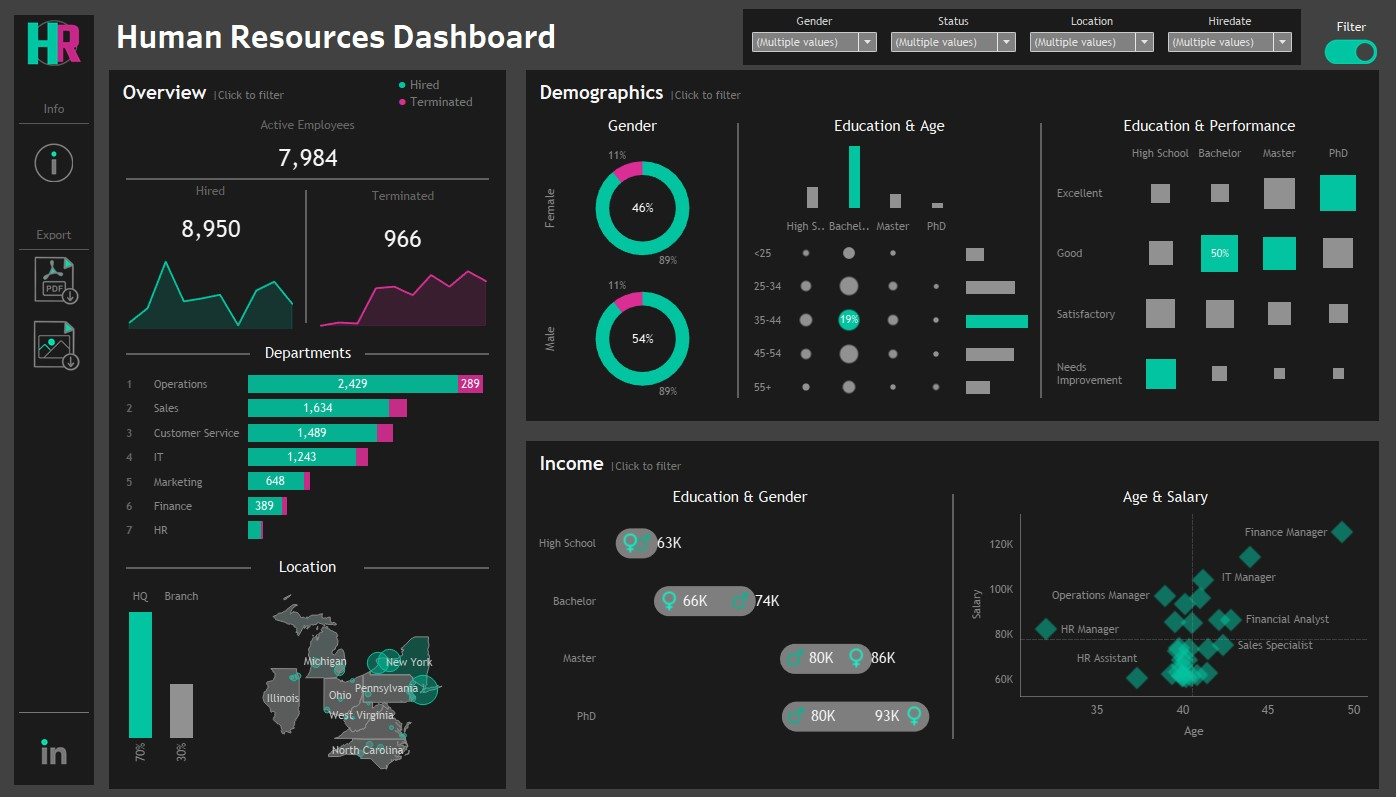

The page's visual inventory and layout, read from the dashboard file:
{"tool":"tableau","page":{"name":"Dashboard Summary","canvas":[1400,800],"ordinal":0},"visuals":[{"type":"blank","box":[96,0,1302,266]},{"type":"text","box":[110,0,622,70]},{"type":"blank","box":[732,0,648,70]},{"type":"filter","title":"gender vs education level","param":"[federated.1v3r0kx0rxv7lr11seoyn0p5qqrr].[none:Gender:nk]","box":[746,11,139,52]},{"type":"filter","title":"gender vs education level","param":"[federated.1v3r0kx0rxv7lr11seoyn0p5qqrr].[none:Calculation_1762314875518541824:n","box":[885,11,139,52]},{"type":"filter","title":"gender vs education level","param":"[federated.1v3r0kx0rxv7lr11seoyn0p5qqrr].[none:Calculation_1646628659733303301:n","box":[1024,11,138,52]},{"type":"filter","title":"gender vs education level","param":"[federated.1v3r0kx0rxv7lr11seoyn0p5qqrr].[yr:Hiredate:ok]","box":[1162,11,138,52]},{"type":"text","box":[1317,12,71,29]},{"type":"image","param":"Image/Logo.png","box":[15,15,80,55]},{"type":"dashboard-object","box":[1325,28,53,47]},{"type":"blank","box":[15,70,80,30]},{"type":"text","box":[396,71,87,43]},{"type":"text","box":[117,77,383,31]},{"type":"text","box":[534,77,839,31]},{"type":"text","box":[15,100,80,18]},{"type":"text","box":[117,108,383,28]},{"type":"text","box":[534,113,199,26]},{"type":"blank","box":[738,113,2,295]},{"type":"text","box":[745,113,291,26]},{"type":"blank","box":[1041,113,2,295]},{"type":"text","box":[1048,113,325,26]},{"type":"blank","box":[15,118,80,11]},{"type":"worksheet","title":"total active","mark":"Text","box":[117,136,383,42]},{"type":"dashboard-object","box":[25,139,60,47]},{"type":"worksheet","title":"gender","mark":"Pie","rows":["Gender"],"cols":["Calculation_1646628659743494151","Calculation_1646628659743494151"],"box":[534,139,199,269]},{"type":"worksheet","title":"edu levels","mark":"Bar","rows":["Calculation_1646628659718410240"],"cols":["Education Level"],"box":[745,139,291,73]},{"type":"worksheet","title":"education vs performance","mark":"Square","rows":["Performance Rating"],"cols":["Education Level"],"box":[1048,139,325,269]},{"type":"blank","box":[117,178,383,2]},{"type":"text","box":[117,180,189,22]},{"type":"blank","box":[306,180,2,153]},{"type":"text","box":[308,180,191.9,32]},{"type":"blank","box":[15,196,80,30]},{"type":"worksheet","title":"total hired","mark":"Text","box":[117,202,189,51]},{"type":"worksheet","title":"total terminated","mark":"Text","box":[308,212,191.9,51]},{"type":"worksheet","title":"age vs education","mark":"Circle","rows":["Calculation_1646628659748687881"],"cols":["Education Level"],"box":[745,212,218,196]},{"type":"worksheet","title":"age groups","mark":"Bar","rows":["Calculation_1646628659748687881"],"cols":["Calculation_1646628659718410240"],"box":[963,212,73,196]},{"type":"text","box":[15,226,80,18]},{"type":"blank","box":[15,244,80,11]},{"type":"worksheet","title":"hired by year","mark":"Line","rows":["Calculation_1646628659718410240","Calculation_1646628659718410240"],"cols":["Hiredate"],"box":[117,253,189,80]},{"type":"dashboard-object","box":[15,255,80,50]},{"type":"worksheet","title":"terminated by year","mark":"Line","rows":["Calculation_1646628659718594561","Calculation_1646628659718594561"],"cols":["Termdate"],"box":[308,263,191.9,70]},{"type":"text","box":[96,266,1302,234]},{"type":"blank","box":[15,305,80,10]},{"type":"dashboard-object","box":[15,315,80,60]},{"type":"blank","box":[127,338,123.7,30]},{"type":"text","box":[250.7,338,115.7,30]},{"type":"blank","box":[366.3,338,123.7,30]},{"type":"worksheet","title":"departments","mark":"Bar","rows":["Calculation_1646628659730563076","Department"],"cols":["Calculation_1646628659718410240"],"box":[117,368,383,179]},{"type":"blank","box":[15,375,80,332]},{"type":"text","box":[534,448,839,31]},{"type":"text","box":[534,484,414,26]},{"type":"blank","box":[953,484,2,265]},{"type":"text","box":[960,484,413,26]},{"type":"blank","box":[96,500,1302,300]},{"type":"worksheet","title":"gender vs education level","mark":"Square","rows":["Education Level"],"cols":["Salary","Salary"],"box":[534,510,414,239]},{"type":"worksheet","title":"age vs salary","mark":"Shape","rows":["Salary"],"cols":["Calculation_1646628659746996232"],"box":[960,510,413,239]},{"type":"blank","box":[127,552,125,30]},{"type":"text","box":[252,552,113,30]},{"type":"blank","box":[365,552,125,30]},{"type":"worksheet","title":"location","mark":"Bar","rows":["Calculation_1646628659718410240"],"cols":["Calculation_1646628659733303301","Calculation1"],"box":[117,582,90,200]},{"type":"worksheet","title":"map states","mark":"Multipolygon","box":[207,582,293,200]},{"type":"blank","box":[15,707,80,11]},{"type":"image","param":"Image/contact-linkedin.png","box":[15,718,80,67]},{"type":"blank","box":[534,749,839,33]}]}

Visuals, with their boxes in screenshot pixels (x1, y1, x2, y2), scaled from the page's 1400x800 canvas onto the 1396x797 screenshot:
blank: (left=96, top=0, right=1394, bottom=265)
text: (left=110, top=0, right=730, bottom=70)
blank: (left=730, top=0, right=1376, bottom=70)
"gender vs education level" filter: (left=744, top=11, right=882, bottom=63)
"gender vs education level" filter: (left=882, top=11, right=1021, bottom=63)
"gender vs education level" filter: (left=1021, top=11, right=1159, bottom=63)
"gender vs education level" filter: (left=1159, top=11, right=1296, bottom=63)
text: (left=1313, top=12, right=1384, bottom=41)
image: (left=15, top=15, right=95, bottom=70)
dashboard-object: (left=1321, top=28, right=1374, bottom=75)
blank: (left=15, top=70, right=95, bottom=100)
text: (left=395, top=71, right=482, bottom=114)
text: (left=117, top=77, right=499, bottom=108)
text: (left=532, top=77, right=1369, bottom=108)
text: (left=15, top=100, right=95, bottom=118)
text: (left=117, top=108, right=499, bottom=135)
text: (left=532, top=113, right=731, bottom=138)
blank: (left=736, top=113, right=738, bottom=406)
text: (left=743, top=113, right=1033, bottom=138)
blank: (left=1038, top=113, right=1040, bottom=406)
text: (left=1045, top=113, right=1369, bottom=138)
blank: (left=15, top=118, right=95, bottom=129)
"total active" worksheet (Text marks): (left=117, top=135, right=499, bottom=177)
dashboard-object: (left=25, top=138, right=85, bottom=185)
"gender" worksheet (Pie marks): (left=532, top=138, right=731, bottom=406)
"edu levels" worksheet (Bar marks): (left=743, top=138, right=1033, bottom=211)
"education vs performance" worksheet (Square marks): (left=1045, top=138, right=1369, bottom=406)
blank: (left=117, top=177, right=499, bottom=179)
text: (left=117, top=179, right=305, bottom=201)
blank: (left=305, top=179, right=307, bottom=332)
text: (left=307, top=179, right=498, bottom=211)
blank: (left=15, top=195, right=95, bottom=225)
"total hired" worksheet (Text marks): (left=117, top=201, right=305, bottom=252)
"total terminated" worksheet (Text marks): (left=307, top=211, right=498, bottom=262)
"age vs education" worksheet (Circle marks): (left=743, top=211, right=960, bottom=406)
"age groups" worksheet (Bar marks): (left=960, top=211, right=1033, bottom=406)
text: (left=15, top=225, right=95, bottom=243)
blank: (left=15, top=243, right=95, bottom=254)
"hired by year" worksheet (Line marks): (left=117, top=252, right=305, bottom=332)
dashboard-object: (left=15, top=254, right=95, bottom=304)
"terminated by year" worksheet (Line marks): (left=307, top=262, right=498, bottom=332)
text: (left=96, top=265, right=1394, bottom=498)
blank: (left=15, top=304, right=95, bottom=314)
dashboard-object: (left=15, top=314, right=95, bottom=374)
blank: (left=127, top=337, right=250, bottom=367)
text: (left=250, top=337, right=365, bottom=367)
blank: (left=365, top=337, right=489, bottom=367)
"departments" worksheet (Bar marks): (left=117, top=367, right=499, bottom=545)
blank: (left=15, top=374, right=95, bottom=704)
text: (left=532, top=446, right=1369, bottom=477)
text: (left=532, top=482, right=945, bottom=508)
blank: (left=950, top=482, right=952, bottom=746)
text: (left=957, top=482, right=1369, bottom=508)
blank: (left=96, top=498, right=1394, bottom=796)
"gender vs education level" worksheet (Square marks): (left=532, top=508, right=945, bottom=746)
"age vs salary" worksheet (Shape marks): (left=957, top=508, right=1369, bottom=746)
blank: (left=127, top=550, right=251, bottom=580)
text: (left=251, top=550, right=364, bottom=580)
blank: (left=364, top=550, right=489, bottom=580)
"location" worksheet (Bar marks): (left=117, top=580, right=206, bottom=779)
"map states" worksheet (Multipolygon marks): (left=206, top=580, right=499, bottom=779)
blank: (left=15, top=704, right=95, bottom=715)
image: (left=15, top=715, right=95, bottom=782)
blank: (left=532, top=746, right=1369, bottom=779)
